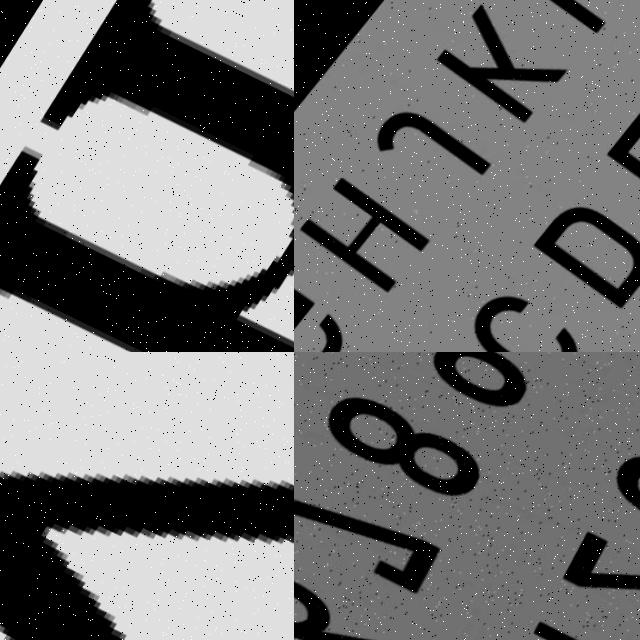2: (526, 493, 640, 640)
3: (577, 411, 640, 623)
6: (294, 514, 484, 640)
7: (294, 438, 508, 640)
8: (294, 352, 548, 561)
9: (331, 352, 589, 470)
H: (0, 167, 294, 352), (45, 0, 294, 198)
V: (0, 352, 294, 640)
